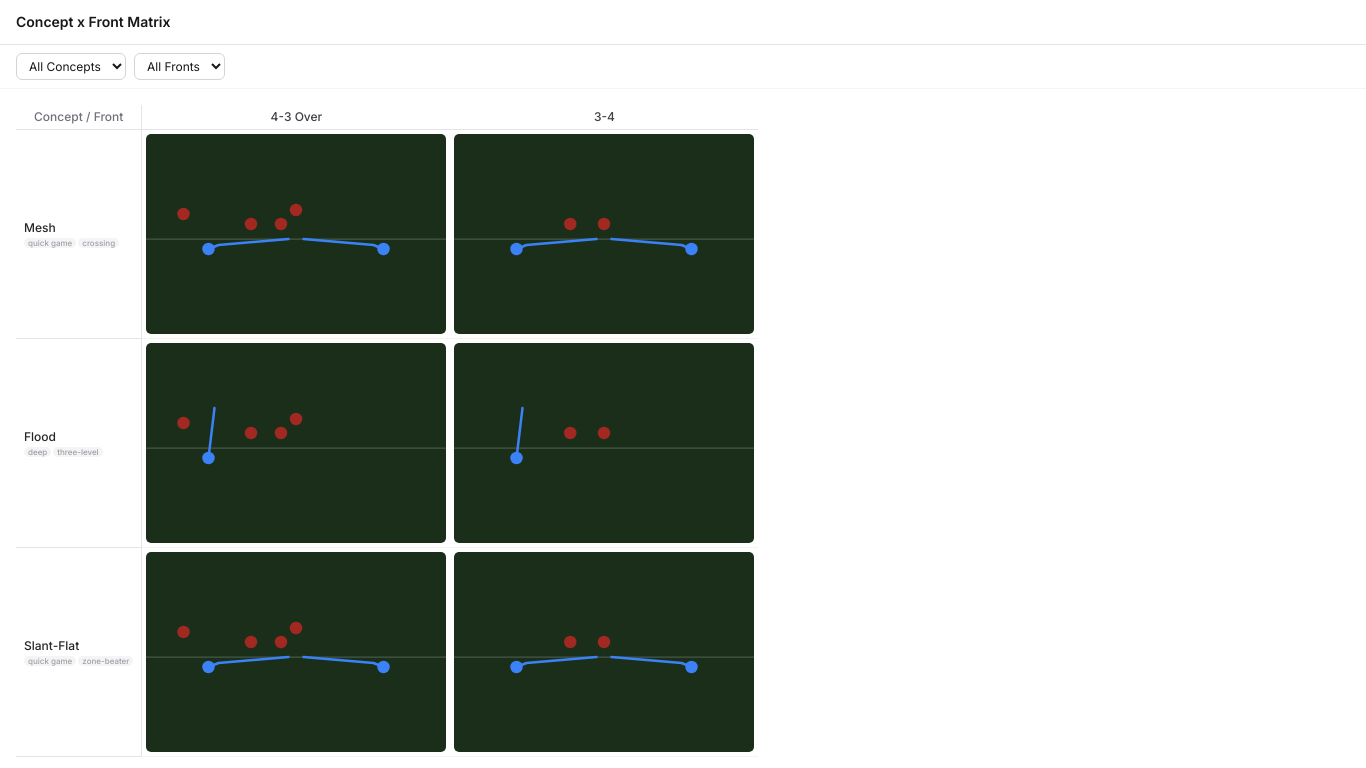
it: ConceptFrontMatrix › filters concepts by tag
Select "deep" in the dropdown with test id "concept-tag-filter" at [71, 66], box [16, 53, 126, 80]
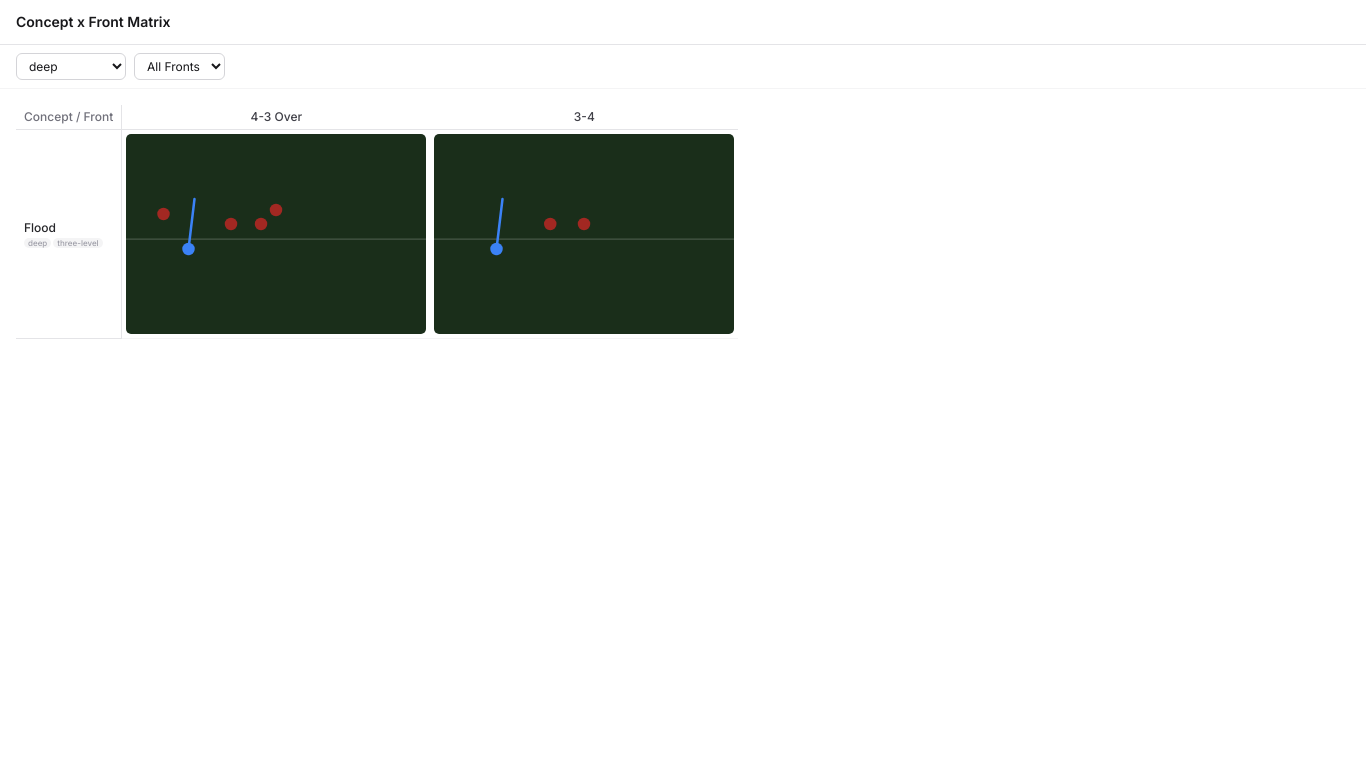
Expected: the row with test id "concept-row-concept-flood" is shown, [16, 130, 738, 338]
Now the row with test id "concept-row-concept-mesh" is gone
Now the row with test id "concept-row-concept-slant-flat" is gone
